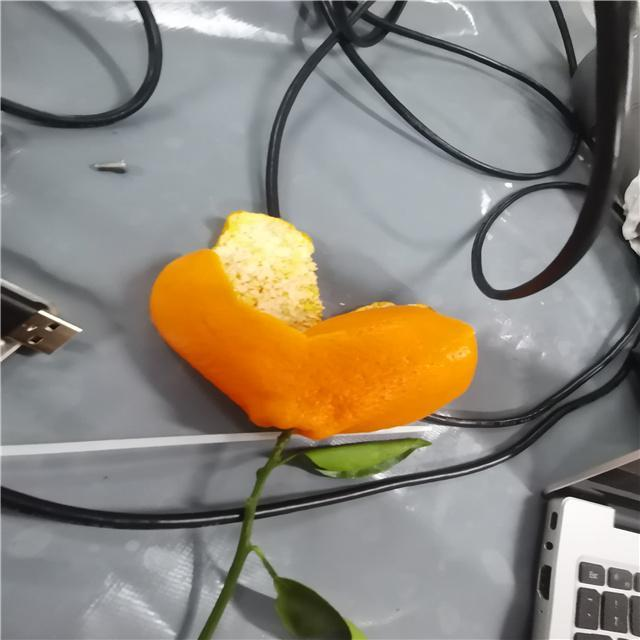orange-peel: (148, 243, 478, 440)
